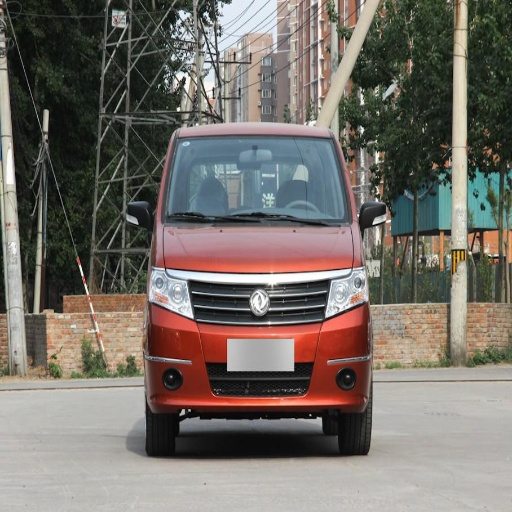front_bumper: (150, 269, 367, 419)
front_right_light: (150, 262, 194, 318)
hood: (159, 226, 356, 273)
